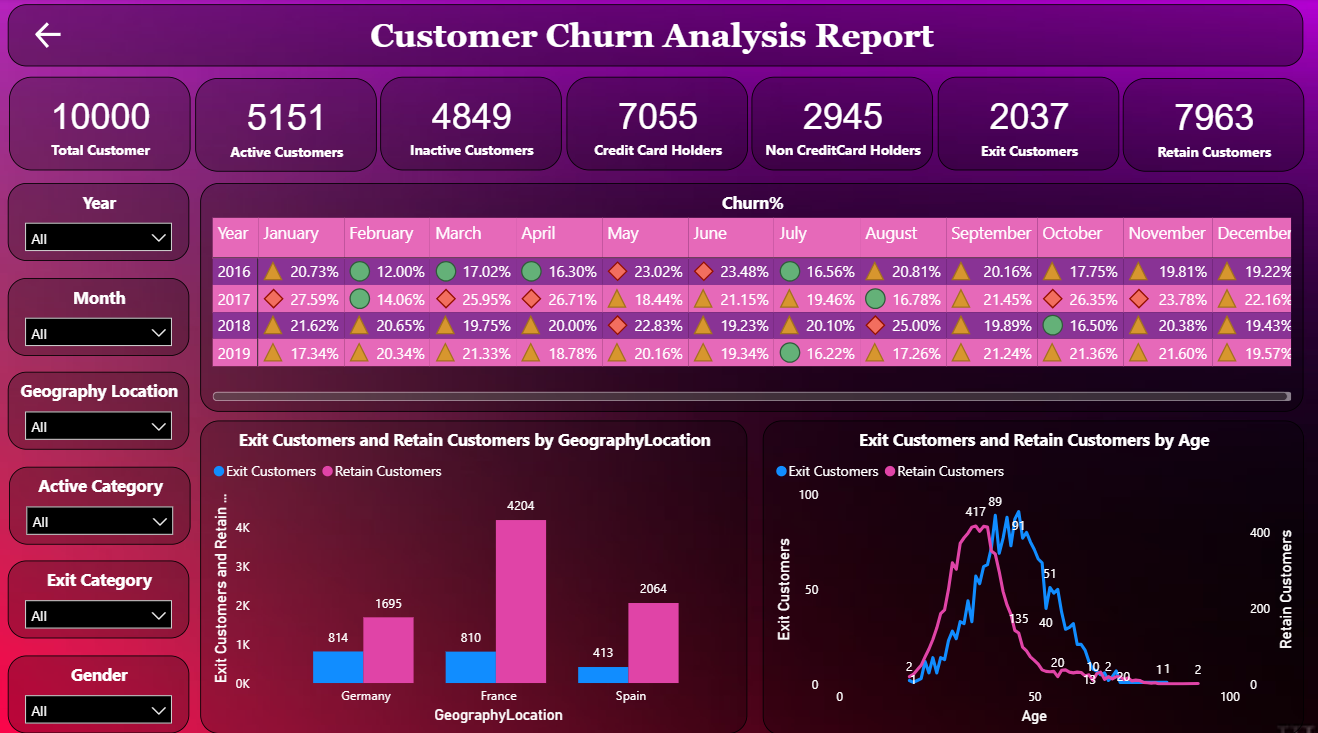

Layout of this report page (visuals, bound fields, positions):
{"tool":"powerbi","page":{"name":"Page 2","canvas":[1280,720],"ordinal":1},"visuals":[{"type":"slicer","title":"Month","fields":{"Values":["Date Master.Month"]},"box":[13.8,269.9,175,75.5],"z":0},{"type":"textbox","box":[13.8,6.2,1250,60],"z":1000},{"type":"card","title":"Total Customers","fields":{"Values":["Calculation.Total Customer"]},"box":[15,76.2,175,90],"z":2000},{"type":"slicer","title":"Year","fields":{"Values":["Date Master.Year"]},"box":[13.8,178.8,175,75.5],"z":3000},{"type":"card","title":"Active Customers","fields":{"Values":["Calculation.Active Customer"]},"box":[194.2,77.5,175,90],"z":4000},{"type":"slicer","title":"Exit Category","fields":{"Values":["Exit Customer.ExitCategory"]},"box":[13.8,543.3,175,75.5],"z":5000},{"type":"card","title":"Non Credit Card Holders","fields":{"Values":["Calculation.Non CreditCard Holders"]},"box":[731.7,76.2,175,90],"z":6000},{"type":"slicer","title":"Active Category","fields":{"Values":["ActiveCustomer.ActiveCategory"]},"box":[15,452.2,175,75.5],"z":7000},{"type":"card","title":"Credit Card Holders","fields":{"Values":["Calculation.CreditCard Holder"]},"box":[552.5,76.2,175,90],"z":8000},{"type":"slicer","title":"Geography Location","fields":{"Values":["Geography.GeographyLocation"]},"box":[13.8,361,175,75.5],"z":9000},{"type":"card","title":"Inactive Customers","fields":{"Values":["Calculation.Inactive Customers"]},"box":[373.3,76.2,175,90],"z":10000},{"type":"slicer","title":"Gender","fields":{"Values":["Gender.GenderCategory"]},"box":[13.8,634.5,175,75.5],"z":11000},{"type":"card","title":"Retain Customers","fields":{"Values":["Calculation.Retain Customers"]},"box":[1090,77.5,175,90],"z":12000},{"type":"pivotTable","title":"Churn%","fields":{"Rows":["Date Master.Year"],"Columns":["Date Master.Month"],"Values":["Calculation.Churn%"]},"box":[199,178.5,1064.9,220.7],"z":13000},{"type":"card","title":"Exit Customers","fields":{"Values":["Calculation.Exit Customers"]},"box":[910.8,76.2,175,90],"z":14000},{"type":"clusteredColumnChart","fields":{"Category":["Geography.GeographyLocation"],"Y":["Calculation.Exit Customers","Calculation.Retain Customers"]},"box":[199,407.6,528.2,302.7],"z":15000},{"type":"actionButton","box":[32.5,16.2,47.5,40],"z":16000},{"type":"lineChart","fields":{"Category":["Bank_Churn.Age"],"Y":["Calculation.Exit Customers"],"Y2":["Calculation.Retain Customers"]},"box":[741.7,407.6,522.2,303.9],"z":17000}]}

Visuals, with their boxes in screenshot pixels (x1, y1, x2, y2), scaled from the page's 1280x720 canvas onto the 1318x733 screenshot:
"Month" slicer: (x1=14, y1=275, x2=194, y2=352)
textbox: (x1=14, y1=6, x2=1301, y2=67)
"Total Customers" card: (x1=15, y1=78, x2=196, y2=169)
"Year" slicer: (x1=14, y1=182, x2=194, y2=259)
"Active Customers" card: (x1=200, y1=79, x2=380, y2=171)
"Exit Category" slicer: (x1=14, y1=553, x2=194, y2=630)
"Non Credit Card Holders" card: (x1=753, y1=78, x2=934, y2=169)
"Active Category" slicer: (x1=15, y1=460, x2=196, y2=537)
"Credit Card Holders" card: (x1=569, y1=78, x2=749, y2=169)
"Geography Location" slicer: (x1=14, y1=368, x2=194, y2=444)
"Inactive Customers" card: (x1=384, y1=78, x2=565, y2=169)
"Gender" slicer: (x1=14, y1=646, x2=194, y2=723)
"Retain Customers" card: (x1=1122, y1=79, x2=1303, y2=171)
"Churn%" pivotTable: (x1=205, y1=182, x2=1301, y2=406)
"Exit Customers" card: (x1=938, y1=78, x2=1118, y2=169)
clusteredColumnChart - Geography.GeographyLocation x Calculation.Exit Customers: (x1=205, y1=415, x2=749, y2=723)
actionButton: (x1=33, y1=16, x2=82, y2=57)
lineChart - Bank_Churn.Age x Calculation.Exit Customers: (x1=764, y1=415, x2=1301, y2=724)
